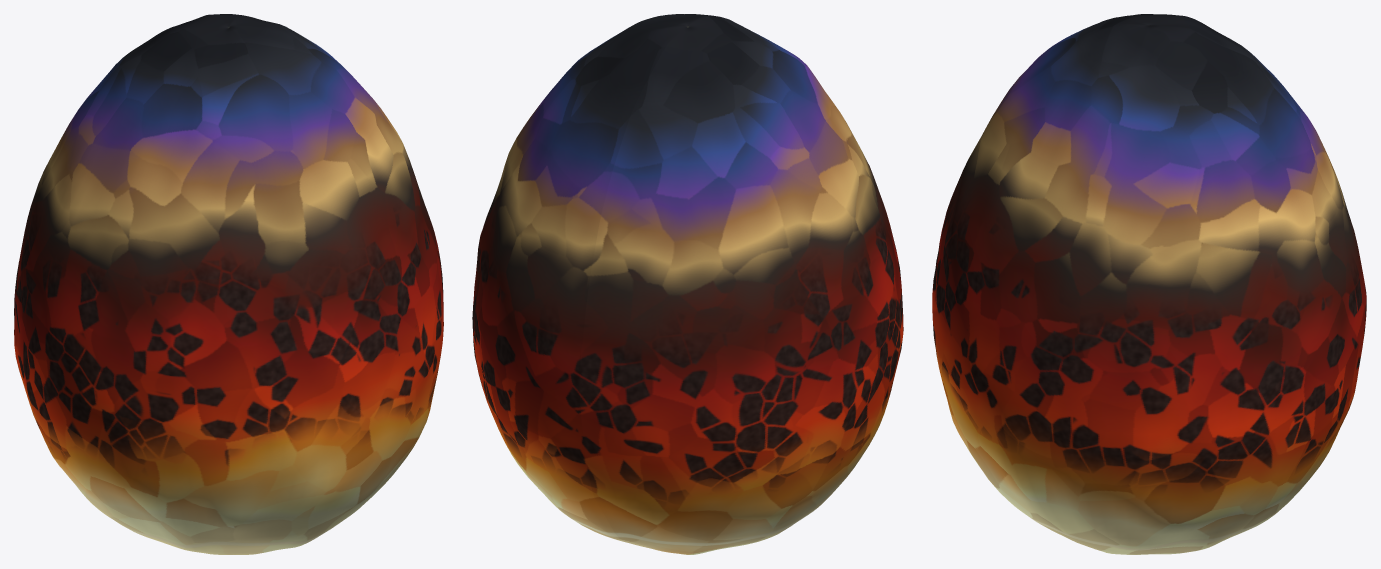
File: MagmaHeartEgg.fbx
3 views of the same model, side by side, from view 1: azimuth 30°, elevation 25°; view 2: azimuth 150°, elevation 25°; view 3: azimuth 270°, elevation 25° (orthographic).
Parts seen in each view (by area): view 1: MagmaHeartEgg_Body; view 2: MagmaHeartEgg_Body; view 3: MagmaHeartEgg_Body.
Boxes of the visible parts, box(x1,y1,x2,y2) form: MagmaHeartEgg_Body: box(14, 14, 443, 554); MagmaHeartEgg_Body: box(472, 14, 903, 554); MagmaHeartEgg_Body: box(932, 14, 1366, 554).
Size of the model in its own units: 2.09 by 2.74 by 2.1.
Materials: 1 (1 with a texture image).
